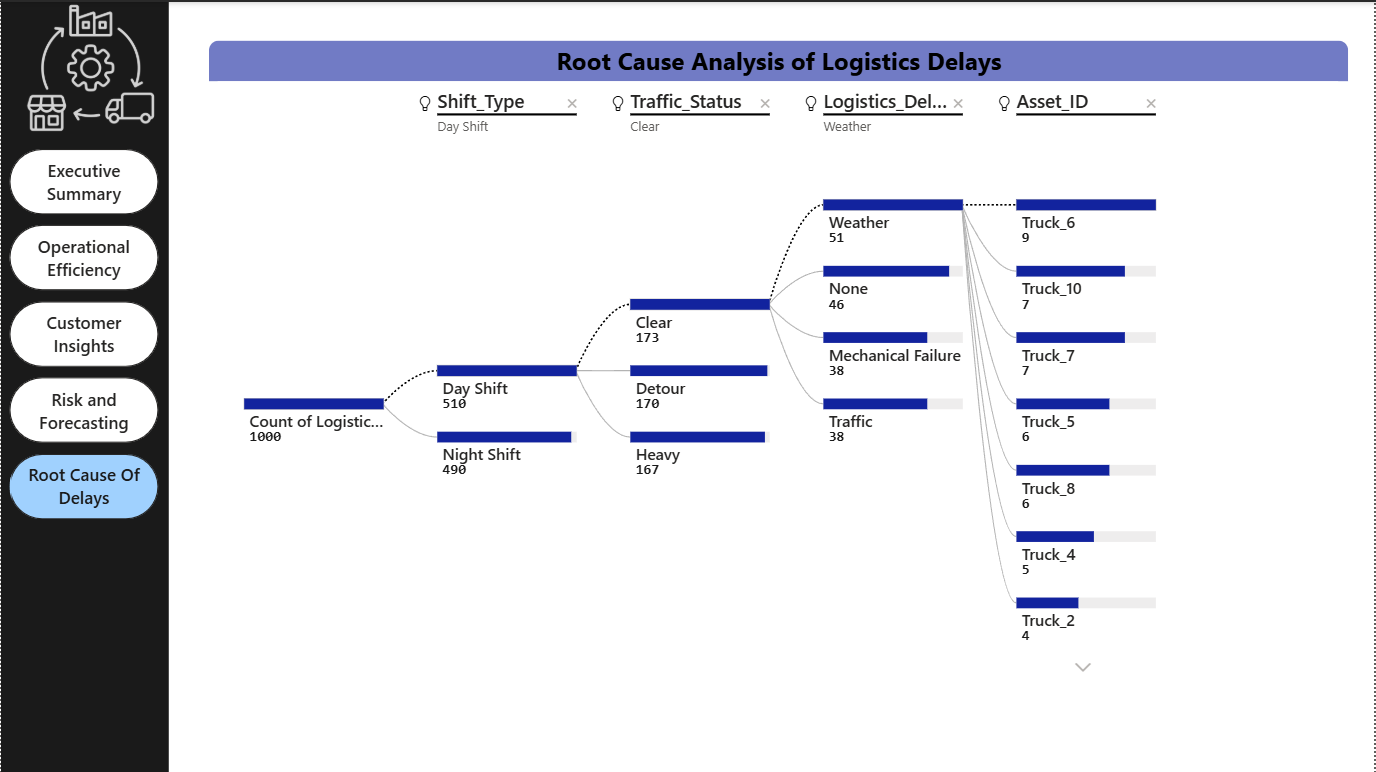

The dashboard page shown, as its layout file describes it:
{"tool":"powerbi","page":{"name":"Root Cause Of Delays","canvas":[1280,720],"ordinal":4},"visuals":[{"type":"decompositionTreeVisual","title":"Root Cause Analysis of Logistics Delays","fields":{"Analyze":["CountNonNull(vw_ShiftType.Logistics_Delay_Reason)"],"ExplainBy":["vw_ShiftType.Shift_Type","vw_ShiftType.Traffic_Status","vw_ShiftType.Logistics_Delay_Reason","vw_ShiftType.Asset_ID"]},"box":[193.3,35.2,1063.3,629.8],"z":0},{"type":"shape","box":[0,0,156.7,1201],"z":1000},{"type":"pageNavigator","title":"Navigate","box":[7.3,137.7,139.1,347.1],"z":2000},{"type":"image","title":"Logo","box":[10.3,0,146.5,123],"z":3000}]}

Visuals, with their boxes on the page's 1280x720 design canvas (x1, y1, x2, y2). These are canvas units, not pixel positions in the 1376x772 screenshot, which may show the page scaled, cropped or inside an application window:
"Root Cause Analysis of Logistics Delays" decompositionTreeVisual: (x1=193, y1=35, x2=1257, y2=665)
shape: (x1=0, y1=0, x2=157, y2=1201)
"Navigate" pageNavigator: (x1=7, y1=138, x2=146, y2=485)
"Logo" image: (x1=10, y1=0, x2=157, y2=123)
